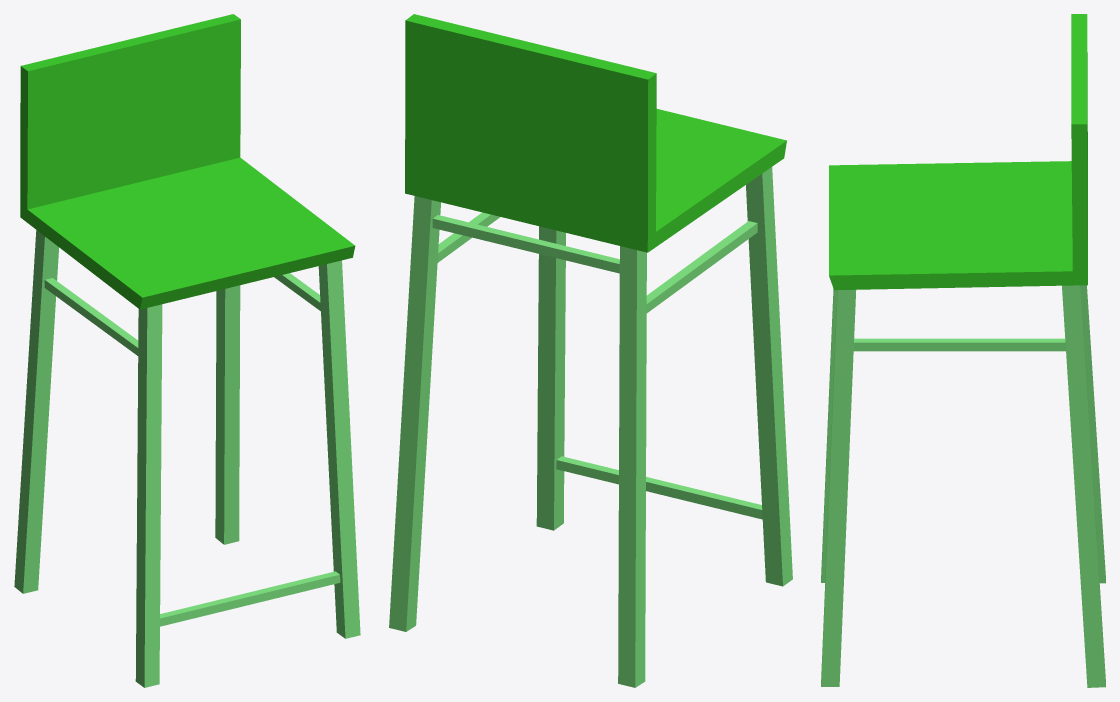
File: Chair_06.fbx
3 renders of one model, left to right at view 1: azimuth 30°, elevation 25°; view 2: azimuth 150°, elevation 25°; view 3: azimuth 270°, elevation 25°, orthographic. The views are drawn at different scales.
Parts seen in each view (by area): view 1: Chair_06; view 2: Chair_06; view 3: Chair_06.
Boxes of the visible parts, left/top/right/bottom form: Chair_06: left=14, top=14, right=360, bottom=687; Chair_06: left=389, top=14, right=792, bottom=687; Chair_06: left=821, top=14, right=1105, bottom=687.
Size of the model in its own units: 45.21 by 104 by 47.73.
